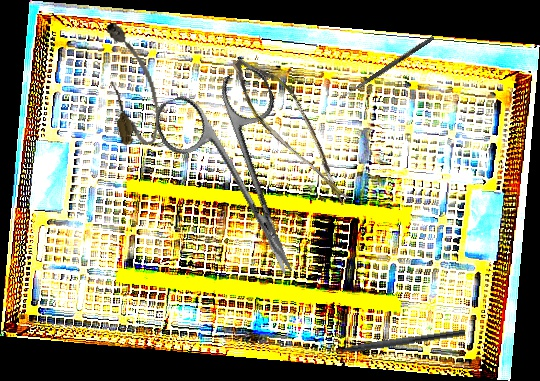Cannula: (97, 17, 167, 150)
Chopper: (319, 319, 466, 359)
Hook Surgical: (338, 34, 435, 103)
Iris Scissors: (148, 62, 340, 298)
Micro Scissor: (210, 50, 379, 206)
